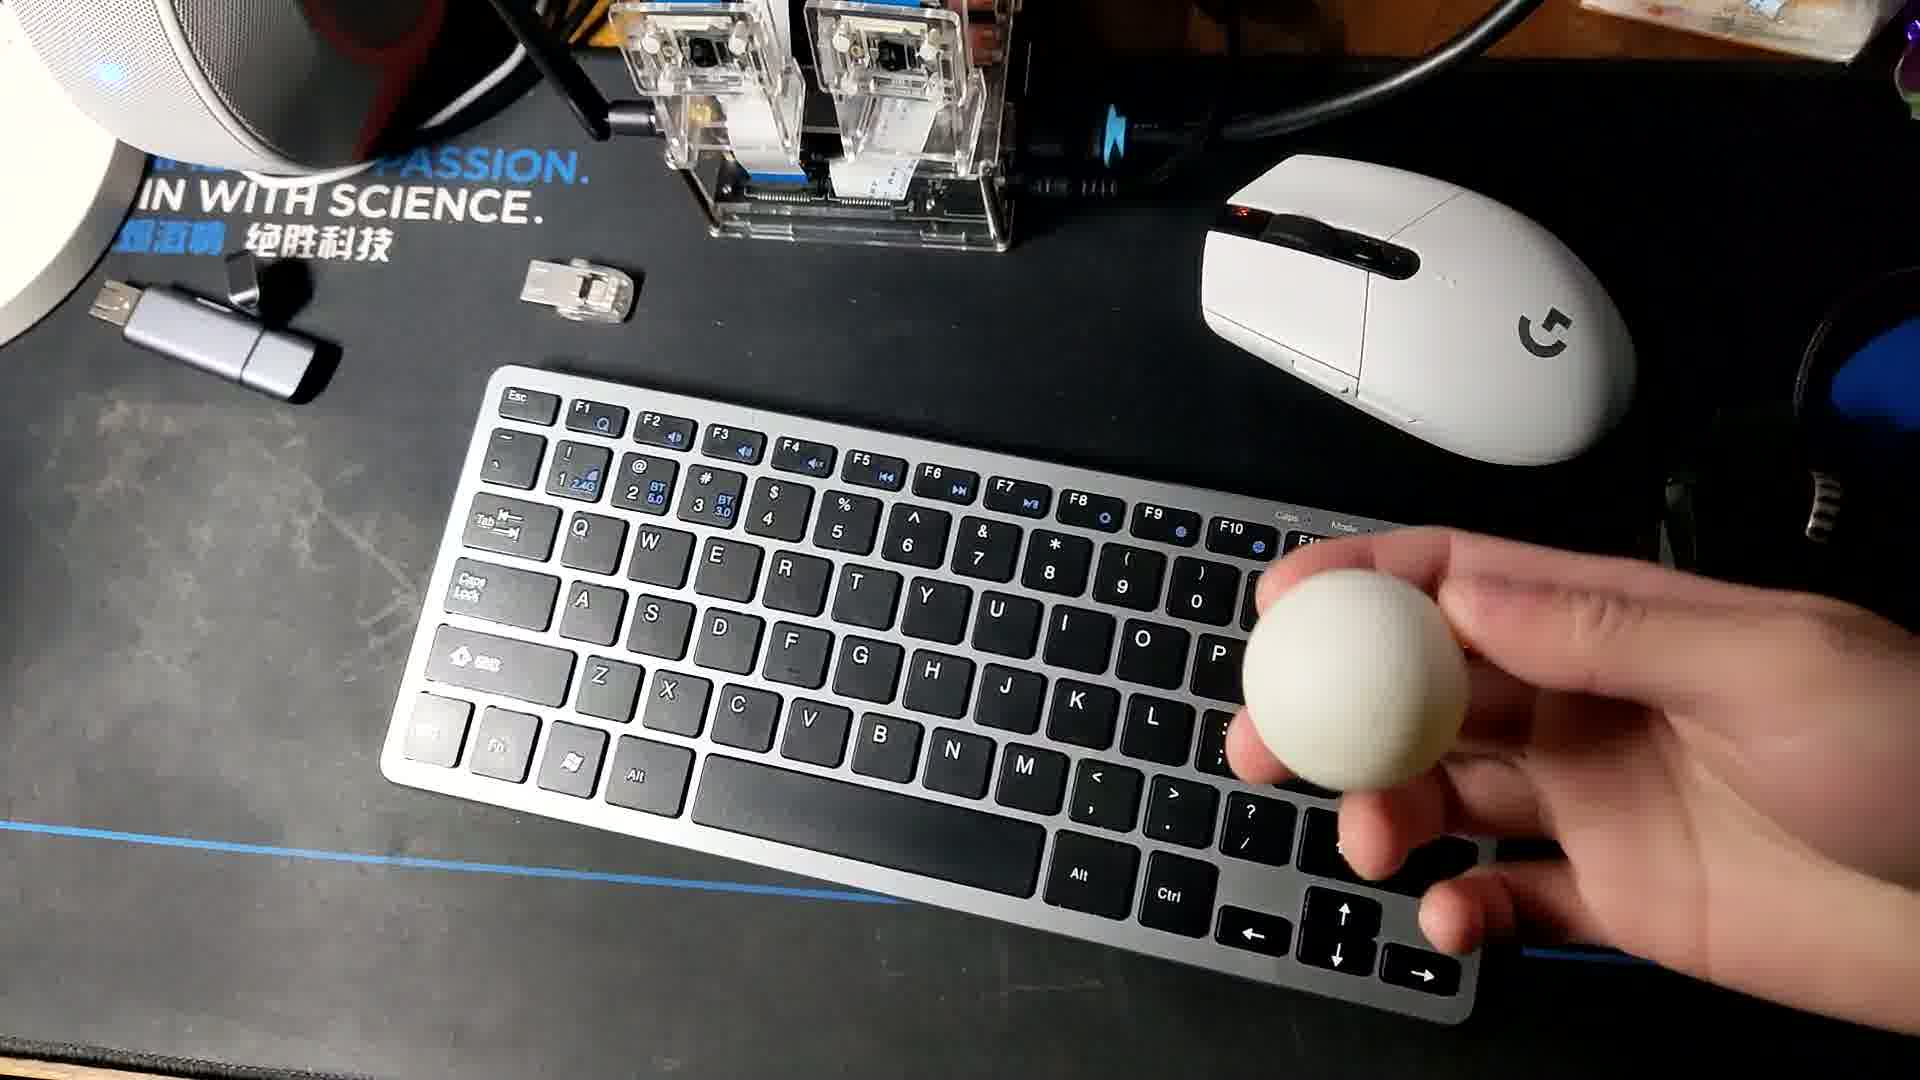Ball: (1246, 571, 1473, 799)
